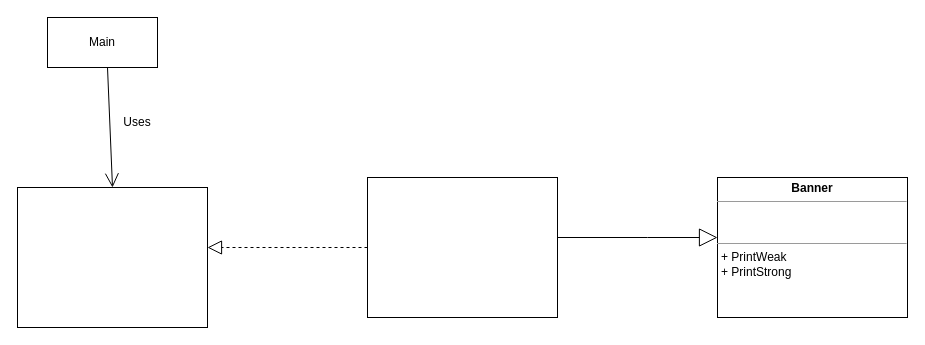
The diagram is 925 pixels wide and 345 high, and some of its shapes have lost their labels. The centre of each missing label's shape, as x and y in pixels:
<<Interface>> Print + PrintWeak + PrintStrong: the point at 112,257
PrintBanner + PrintWeak + PrintStrong: the point at 462,247
